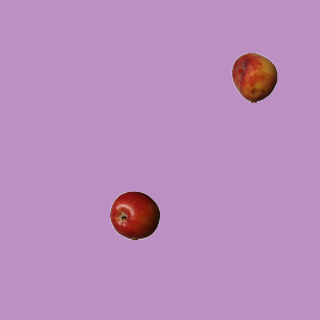Apple Braeburn: (109, 190, 159, 240)
Peach: (229, 52, 279, 102)
